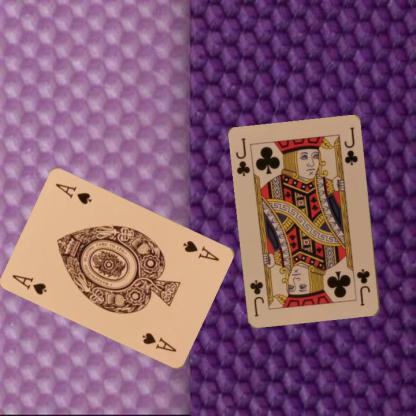As: (180, 238, 221, 262), (10, 272, 48, 296)
Jc: (233, 136, 252, 177), (354, 266, 372, 308)
